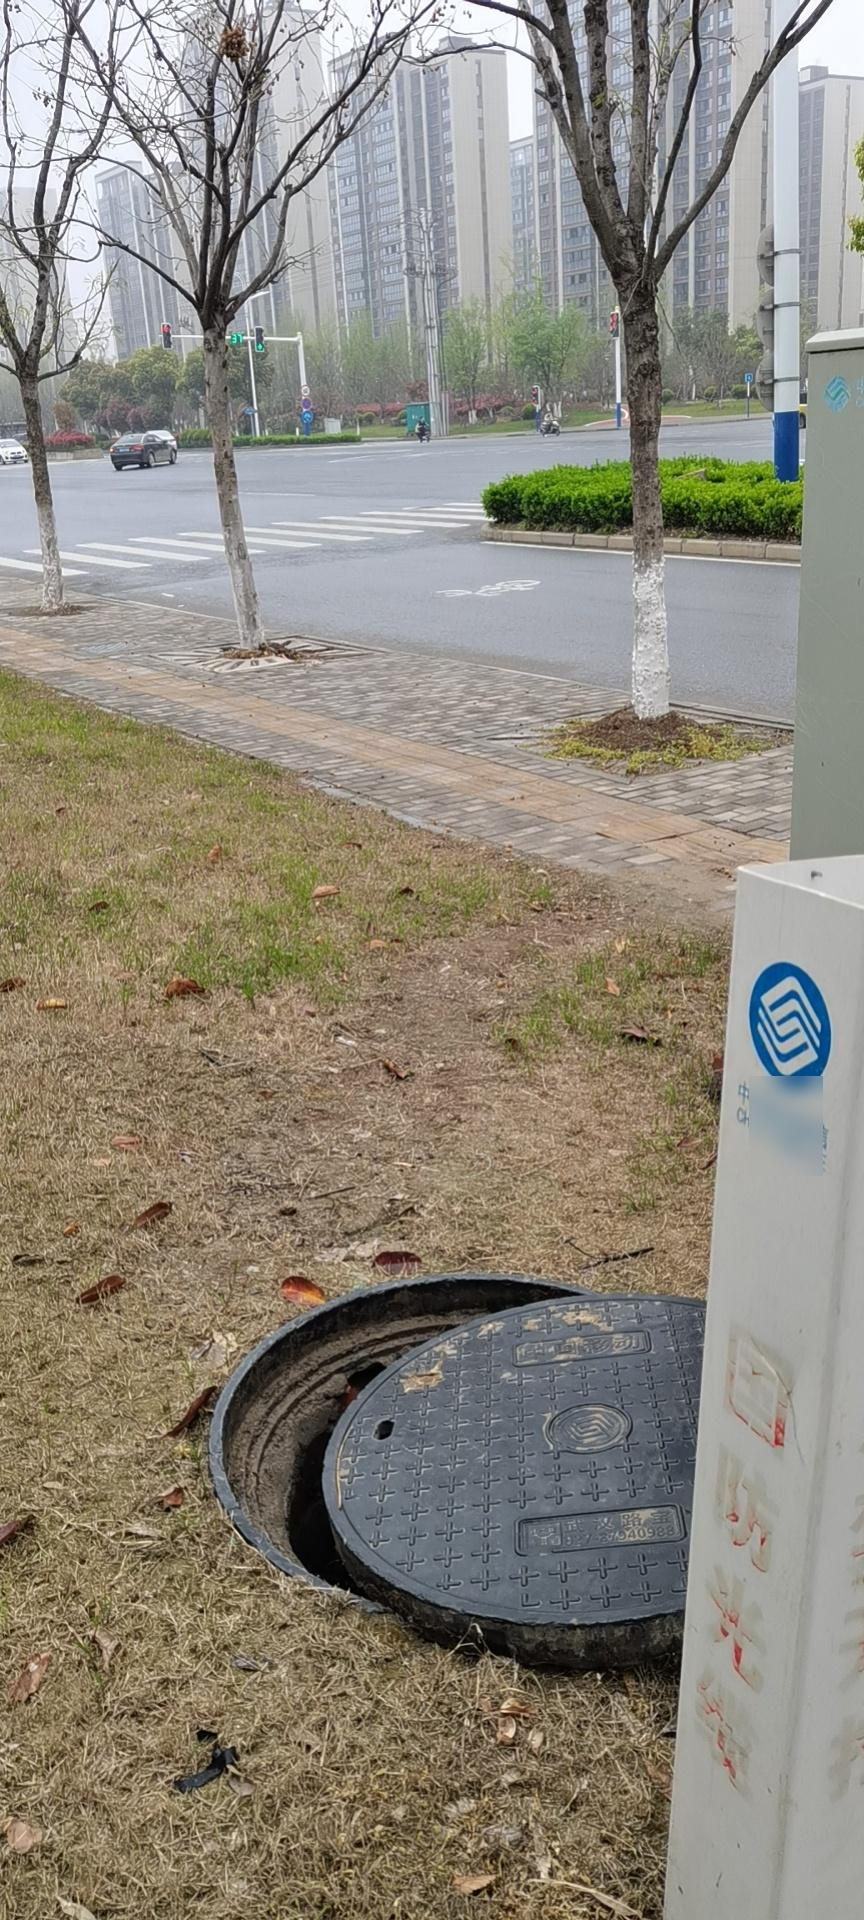wellcover: (127, 1244, 809, 1687)
